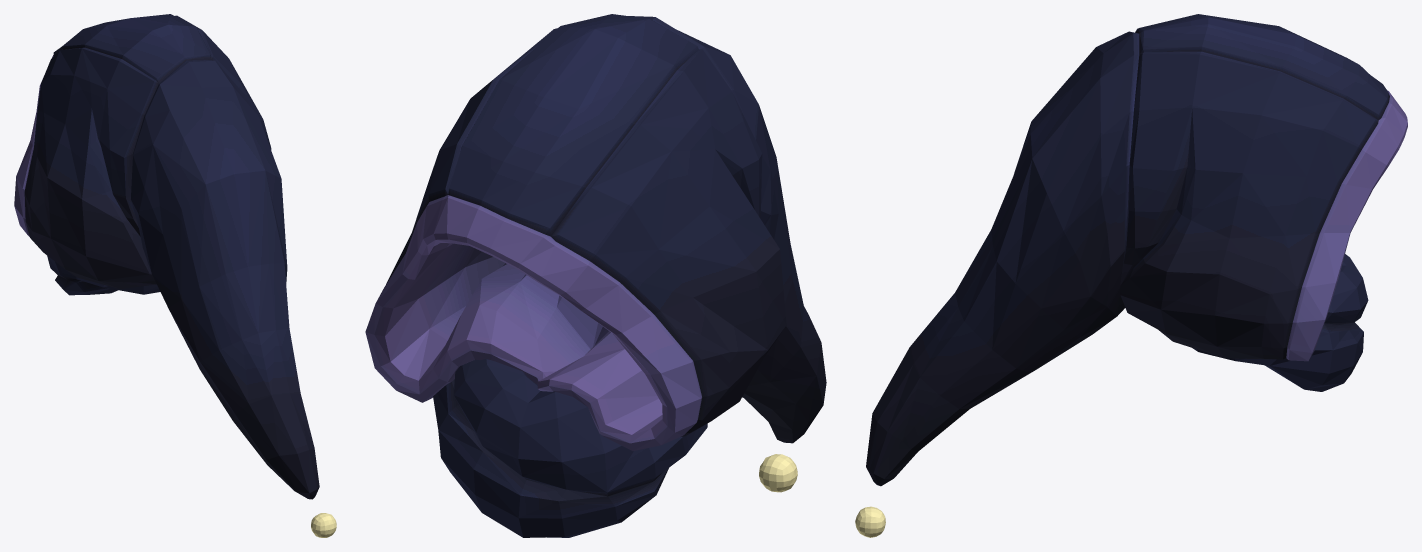
Rendered from CharSkyKid_Hair_AP29LongHood.glb.
The picture shows the model from 3 angles, left to right: view 1: azimuth 30°, elevation 25°; view 2: azimuth 150°, elevation 25°; view 3: azimuth 270°, elevation 25°; orthographic projection. The views are drawn at different scales.
Parts seen in each view (by area): view 1: CharSkyKid_Hair_AP29LongHood; view 2: CharSkyKid_Hair_AP29LongHood; view 3: CharSkyKid_Hair_AP29LongHood.
Boxes of the visible parts, left/top/right/bottom form: CharSkyKid_Hair_AP29LongHood: left=14, top=14, right=336, bottom=537; CharSkyKid_Hair_AP29LongHood: left=365, top=14, right=826, bottom=537; CharSkyKid_Hair_AP29LongHood: left=855, top=14, right=1407, bottom=537.
Size of the model in its own units: 3.81 by 6.66 by 6.65.
1 material, 1 textured.
